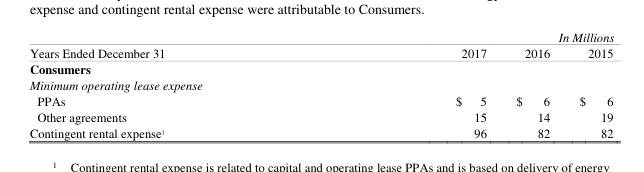table: (28, 28, 613, 140)
table column: (28, 28, 309, 140), (309, 28, 500, 140), (553, 28, 613, 140), (500, 28, 553, 140)
table column header: (28, 28, 613, 60)
table projected row header: (28, 60, 613, 77), (28, 77, 613, 92)
table row: (28, 28, 613, 60), (28, 60, 613, 77), (28, 92, 613, 108), (28, 108, 613, 124), (28, 124, 613, 140), (28, 77, 613, 92)
